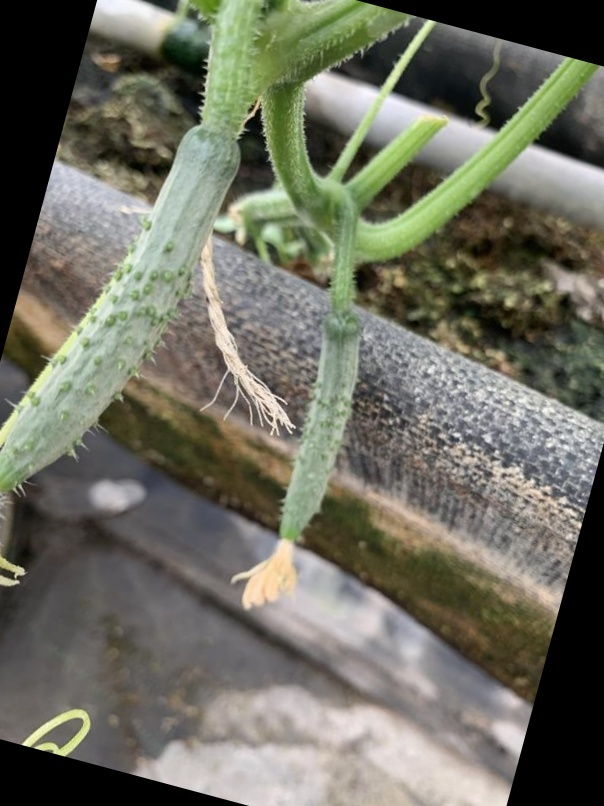bear: (250, 315, 366, 597)
growth: (0, 100, 251, 583)
